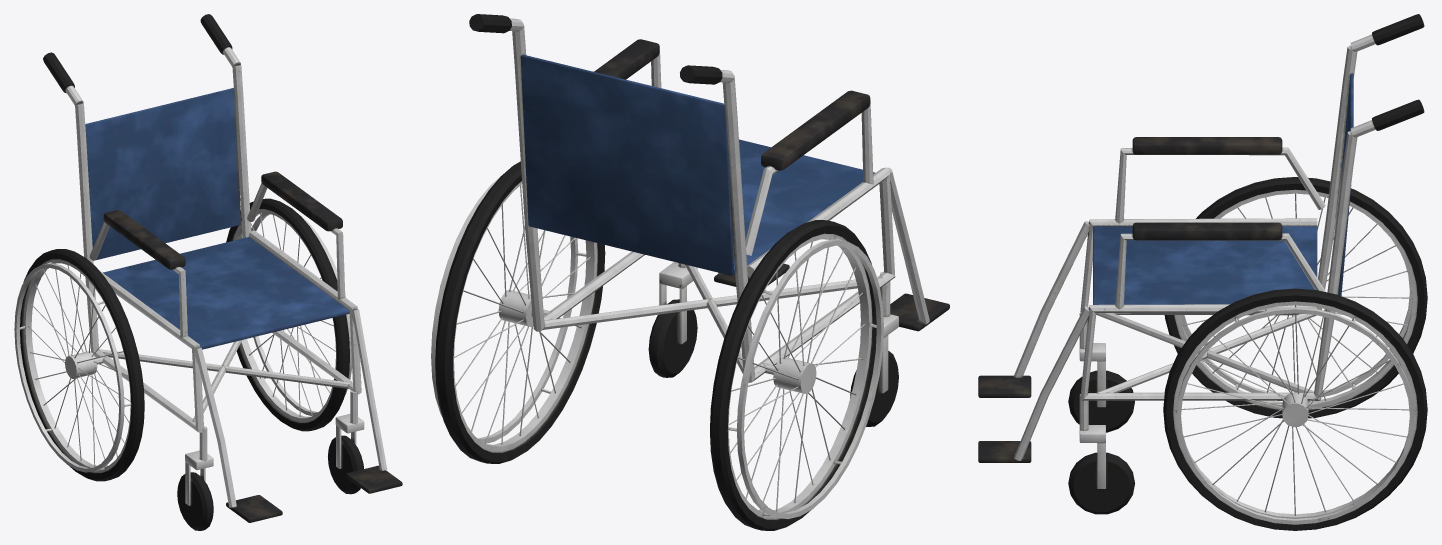
File: cadeira_rodas.glb
3 renders of one model, left to right at view 1: azimuth 30°, elevation 25°; view 2: azimuth 150°, elevation 25°; view 3: azimuth 270°, elevation 25°, orthographic. The views are drawn at different scales.
Parts seen in each view (by area): view 1: cadeira; view 2: cadeira; view 3: cadeira.
Part boxes in pixels (x1,y1,x2,y2): cadeira: (14, 14, 402, 530); cadeira: (431, 14, 949, 530); cadeira: (978, 14, 1427, 530).
Size of the model in its own units: 0.678 by 1.04 by 1.02.
Materials: 1 (1 with a texture image).
